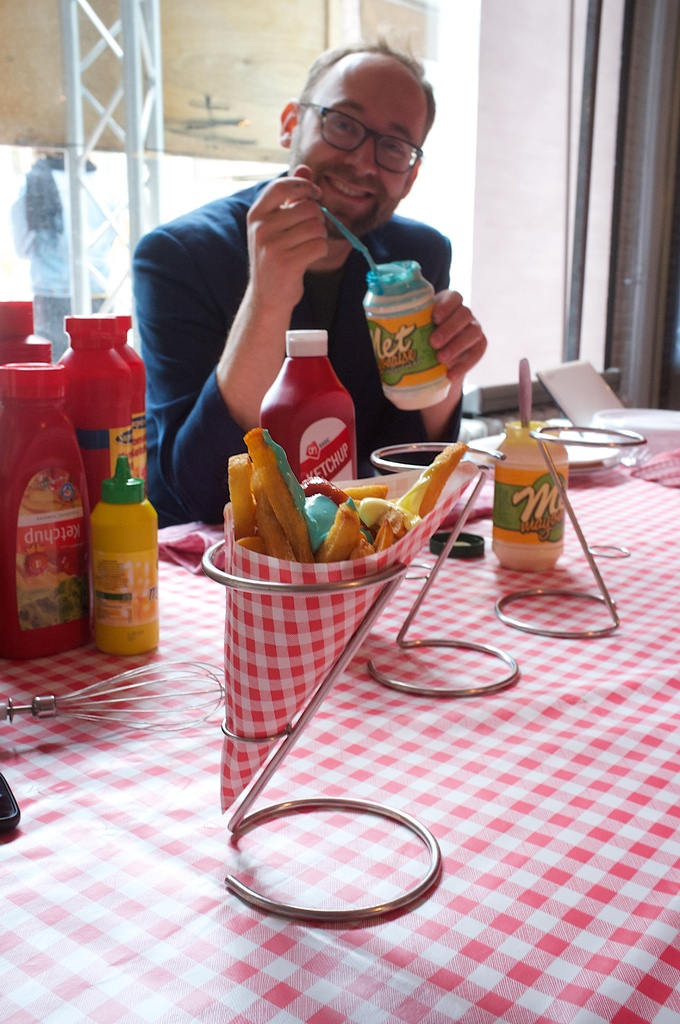French fries: (202, 444, 414, 575)
